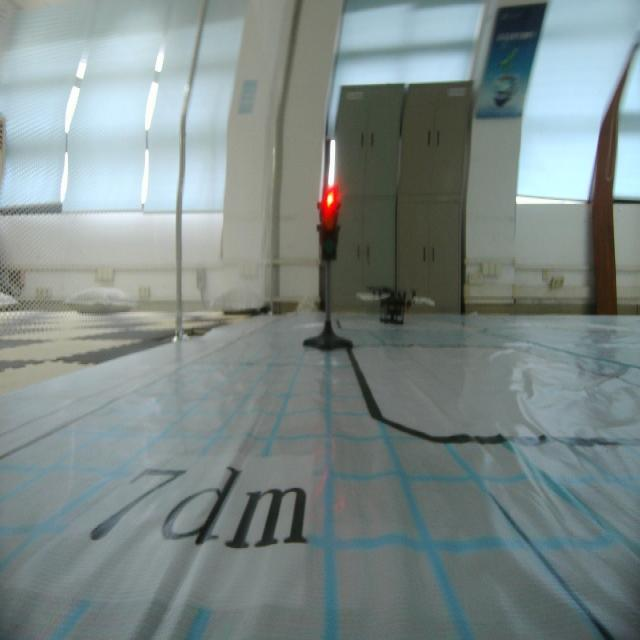red: (314, 181, 344, 266)
